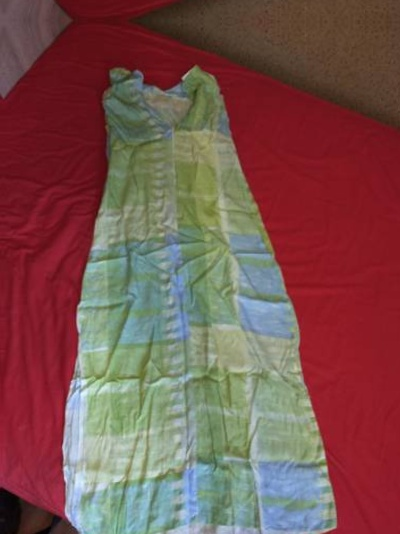Dress: (29, 47, 370, 534)
